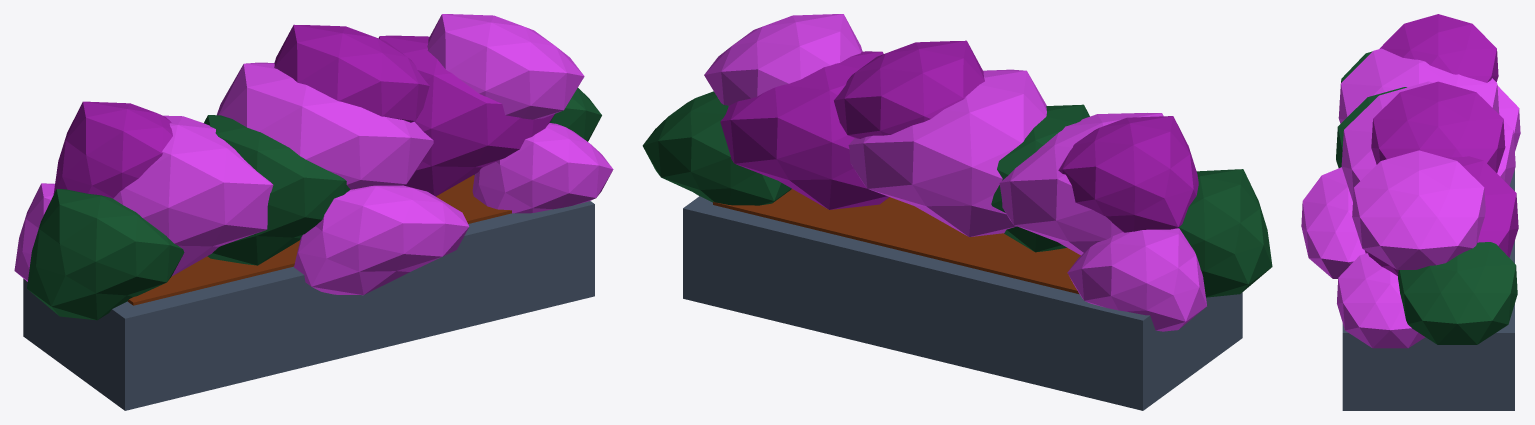
Rendered from env_bougainvillea_planter_01.glb.
3 views of the same model, side by side, from view 1: azimuth 30°, elevation 25°; view 2: azimuth 150°, elevation 25°; view 3: azimuth 270°, elevation 25° (orthographic). The views are drawn at different scales.
Parts seen in each view (by area): view 1: Bougainvillea_Planter_HighFi, Bougainvillea_Cluster_5, Bougainvillea_Cluster_0, Bougainvillea_Cluster_11, Bougainvillea_Cluster_3, Bougainvillea_Cluster_8, Bougainvillea_Cluster_7, Bougainvillea_Cluster_1, Bougainvillea_Cluster_2, Bougainvillea_Cluster_10, Bougainvillea_Cluster_4, Bougainvillea_Cluster_6 (+1 smaller); view 2: Bougainvillea_Planter_HighFi, Bougainvillea_Cluster_0, Bougainvillea_Cluster_7, Bougainvillea_Cluster_4, Bougainvillea_Cluster_6, Bougainvillea_Cluster_1, Bougainvillea_Cluster_8, Bougainvillea_Cluster_5, Bougainvillea_Cluster_9, Bougainvillea_Cluster_3, Bougainvillea_Cluster_2; view 3: Bougainvillea_Cluster_8, Bougainvillea_Planter_HighFi, Bougainvillea_Cluster_9, Bougainvillea_Cluster_1, Bougainvillea_Cluster_10, Bougainvillea_Cluster_4, Bougainvillea_Cluster_11, Bougainvillea_Cluster_3, Bougainvillea_Cluster_0, Bougainvillea_Cluster_7, Bougainvillea_Cluster_6, Bougainvillea_Cluster_2.
Part boxes in pixels (x1,y1,x2,y2): Bougainvillea_Planter_HighFi: (23, 175, 594, 410); Bougainvillea_Cluster_5: (27, 189, 184, 320); Bougainvillea_Cluster_0: (217, 62, 433, 189); Bougainvillea_Cluster_11: (294, 185, 469, 295); Bougainvillea_Cluster_3: (113, 115, 273, 276); Bougainvillea_Cluster_8: (427, 14, 584, 119); Bougainvillea_Cluster_7: (378, 35, 554, 196); Bougainvillea_Cluster_1: (274, 24, 429, 122); Bougainvillea_Cluster_2: (204, 115, 350, 265); Bougainvillea_Cluster_10: (472, 123, 613, 213); Bougainvillea_Cluster_4: (53, 101, 172, 198); Bougainvillea_Cluster_6: (14, 183, 54, 281); Bougainvillea_Planter_HighFi: (683, 189, 1242, 410); Bougainvillea_Cluster_0: (848, 69, 1046, 237); Bougainvillea_Cluster_7: (720, 51, 889, 209); Bougainvillea_Cluster_4: (1058, 116, 1198, 232); Bougainvillea_Cluster_6: (1067, 228, 1206, 331); Bougainvillea_Cluster_1: (834, 40, 984, 138); Bougainvillea_Cluster_8: (704, 14, 862, 105); Bougainvillea_Cluster_5: (1178, 169, 1272, 297); Bougainvillea_Cluster_9: (642, 91, 791, 205); Bougainvillea_Cluster_3: (999, 113, 1163, 255); Bougainvillea_Cluster_2: (991, 104, 1089, 252); Bougainvillea_Cluster_8: (1352, 150, 1485, 269); Bougainvillea_Planter_HighFi: (1342, 170, 1514, 410); Bougainvillea_Cluster_9: (1398, 242, 1517, 344); Bougainvillea_Cluster_1: (1371, 81, 1505, 172); Bougainvillea_Cluster_10: (1337, 253, 1425, 348); Bougainvillea_Cluster_4: (1379, 14, 1498, 82); Bougainvillea_Cluster_11: (1301, 167, 1365, 278); Bougainvillea_Cluster_3: (1338, 48, 1499, 123); Bougainvillea_Cluster_0: (1341, 81, 1515, 201); Bougainvillea_Cluster_7: (1365, 156, 1518, 275); Bougainvillea_Cluster_6: (1497, 86, 1520, 150); Bougainvillea_Cluster_2: (1336, 87, 1406, 167).
Bounding box in the file's own units: 3 × 1.32 × 1.14.
